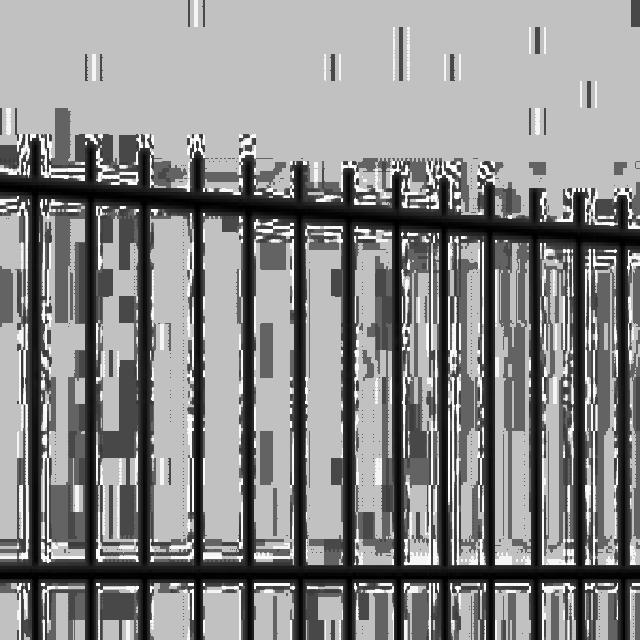fences: (8, 138, 640, 640)
